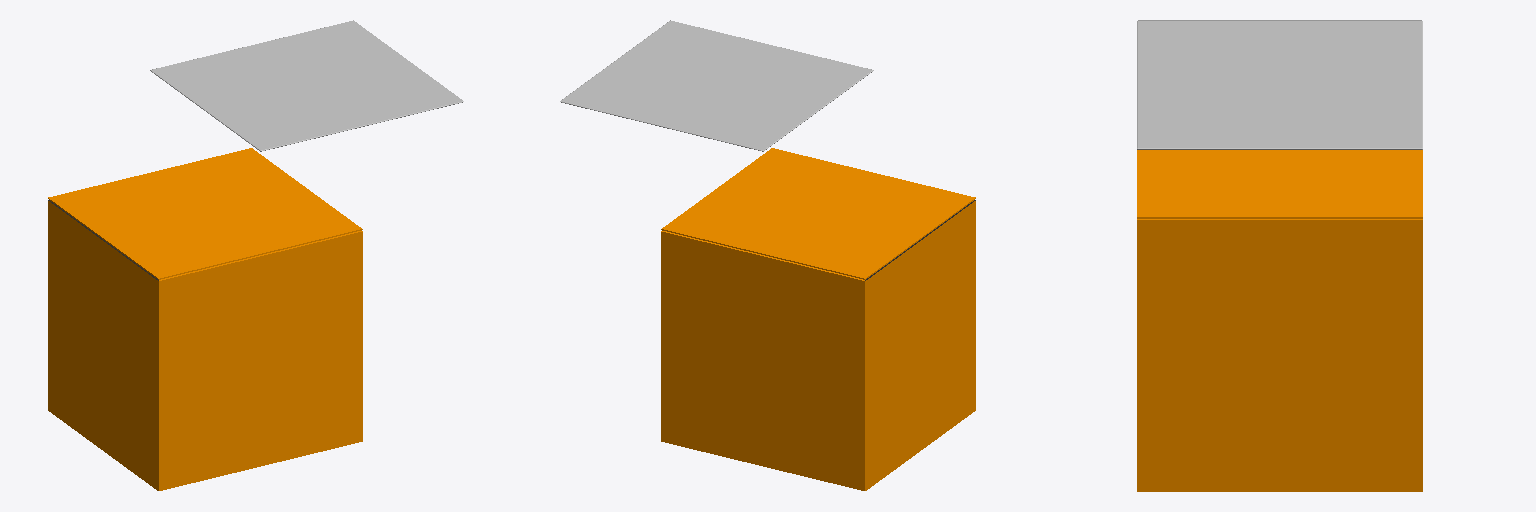
The robot description file, URDF, robot "box":
<?xml version="1.0" ?>
<robot name="box">
    <mujoco>
        <compiler meshdir="[local-path]/Workspace/mujoco_ws/src/mujoco_world/mujoco_world/model/box/box/box/meshes" strippath="false" balanceinertia="true" discardvisual="true"/>
    </mujoco>
    <link name="box_body">
        <visual>
            <origin xyz="0 0 0" rpy="0 0 0"/>
            <geometry>
                <mesh filename="package://mujoco_world/model/box/urdf/meshes/BoxBottom.dae"/>
            </geometry>
        </visual>
        <visual>
            <origin xyz="0 0 0" rpy="0 0 0"/>
            <geometry>
                <mesh filename="package://mujoco_world/model/box/urdf/meshes/BoxWall1.dae"/>
            </geometry>
        </visual>
        <visual>
            <origin xyz="0 0 0" rpy="0 0 0"/>
            <geometry>
                <mesh filename="package://mujoco_world/model/box/urdf/meshes/BoxWall2.dae"/>
            </geometry>
        </visual>
        <visual>
            <origin xyz="0 0 0" rpy="0 0 0"/>
            <geometry>
                <mesh filename="package://mujoco_world/model/box/urdf/meshes/BoxWall3.dae"/>
            </geometry>
        </visual>
        <visual>
            <origin xyz="0 0 0" rpy="0 0 0"/>
            <geometry>
                <mesh filename="package://mujoco_world/model/box/urdf/meshes/BoxWall4.dae"/>
            </geometry>
        </visual>
        <collision>
            <origin xyz="0 0 -0.1675" rpy="0 0 0"/>
            <geometry>
                <box size="0.34 0.32 0.005"/>
            </geometry>
        </collision>
        <collision>
            <origin xyz="0.167578  0 -0.0025" rpy="0 0 0"/>
            <geometry>
                <box size="0.005156 0.32 0.335"/>
            </geometry>
        </collision>
        <collision>
            <origin xyz="-0.167578  0 -0.0025" rpy="0 0 0"/>
            <geometry>
                <box size="0.005156 0.32 0.335"/>
            </geometry>
        </collision>
        <collision>
            <origin xyz="0 0.1575 -0.0025" rpy="0 0 0"/>
            <geometry>
                <box size="0.340312 0.005 0.335"/>
            </geometry>
        </collision>
        <collision>
            <origin xyz="0 -0.1575 -0.0025" rpy="0 0 0"/>
            <geometry>
                <box size="0.340312 0.005 0.335"/>
            </geometry>
        </collision>
    </link>
    <joint name="box_top_layer_bottom_joint" type="continuous">
        <origin xyz="0.17 0 0.166" rpy="0 0 0"/>
        <parent link="box_body"/>
        <child link="box_top_layer_bottom"/>
        <axis xyz="0 1 0"/>
    </joint>
    <link name="box_top_layer_bottom">
        <visual>
            <geometry>
                <mesh filename="package://mujoco_world/model/box/urdf/meshes/BoxTopLayerBottom.dae"/>
            </geometry>
        </visual>
        <collision>
            <geometry>
                <mesh filename="BoxTopLayerBottom.stl"/>
            </geometry>
        </collision>
    </link>
    <joint name="box_top_layer_top_joint" type="continuous">
        <origin xyz="-0.17 0 0.168" rpy="0 0 0"/>
        <parent link="box_body"/>
        <child link="box_top_layer_top"/>
        <axis xyz="0 -1 0"/>
    </joint>
    <link name="box_top_layer_top">
        <visual>
            <geometry>
                <mesh filename="package://mujoco_world/model/box/urdf/meshes/BoxTopLayerTop.dae"/>
            </geometry>
        </visual>
        <collision>
            <geometry>
                <mesh filename="BoxTopLayerTop.stl"/>
            </geometry>
        </collision>
    </link>
</robot>

--- What the picture shows (computed from the rendered views, not written in the file) ---
3 views of the same robot in one strip: view 1: azimuth 30°, elevation 25°; view 2: azimuth 150°, elevation 25°; view 3: azimuth 270°, elevation 25° (orthographic).
Model box with 3 links and 2 joints (2 continuous), rooted at box_body, posed every joint at zero.
Visible links, largest first — view 1: box_body, box_top_layer_top, box_top_layer_bottom; view 2: box_body, box_top_layer_top, box_top_layer_bottom; view 3: box_body, box_top_layer_bottom, box_top_layer_top.
Link boxes in pixels (left/top/right/bottom): box_body: left=48, top=200, right=362, bottom=490; box_top_layer_top: left=48, top=148, right=362, bottom=279; box_top_layer_bottom: left=150, top=20, right=463, bottom=151; box_body: left=661, top=200, right=975, bottom=490; box_top_layer_top: left=661, top=148, right=975, bottom=279; box_top_layer_bottom: left=560, top=20, right=873, bottom=151; box_body: left=1137, top=219, right=1422, bottom=491; box_top_layer_bottom: left=1137, top=20, right=1422, bottom=149; box_top_layer_top: left=1137, top=150, right=1422, bottom=218.
Size in the robot's own frame: 0.5102 by 0.32 by 0.503 metres.
7 mesh visuals loaded from 7 distinct referenced files (7 Collada DAE).